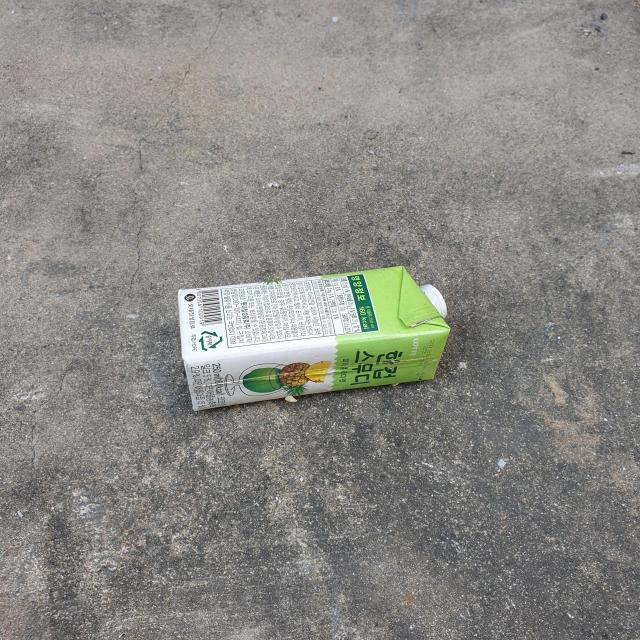paperpack: (177, 266, 450, 411)
